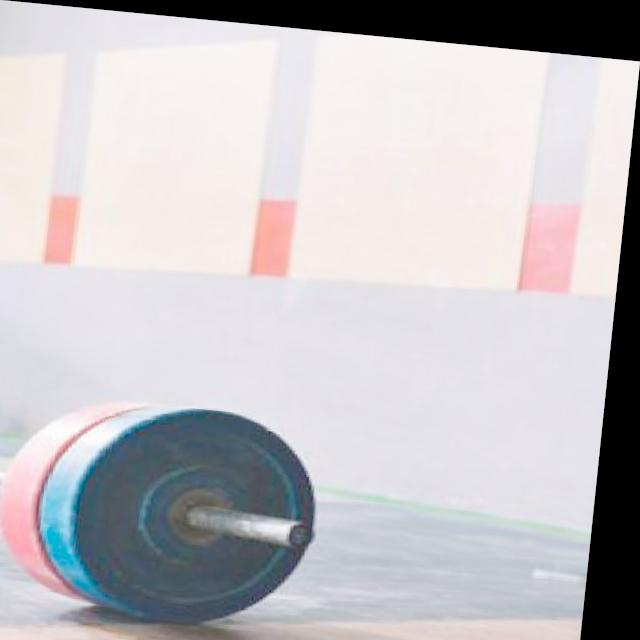barbell: (69, 391, 342, 637)
